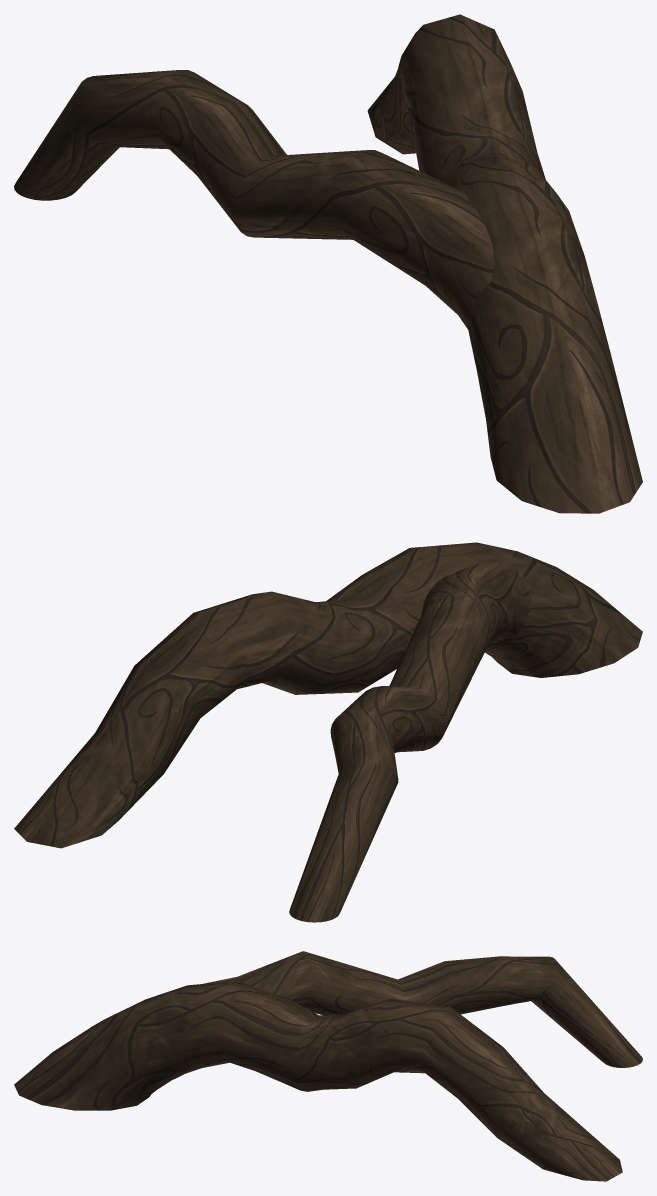
Rendered from rootGreen8.fbx.
3 renders of one model, top to bottom at view 1: azimuth 30°, elevation 25°; view 2: azimuth 150°, elevation 25°; view 3: azimuth 270°, elevation 25°, orthographic. The views are drawn at different scales.
Parts seen in each view (by area): view 1: rootGreen8; view 2: rootGreen8; view 3: rootGreen8.
Boxes of the visible parts, left/top/right/bottom form: rootGreen8: left=14, top=14, right=642, bottom=513; rootGreen8: left=14, top=542, right=642, bottom=922; rootGreen8: left=14, top=951, right=642, bottom=1181.
Size of the model in its own units: 754 by 352 by 1501.
